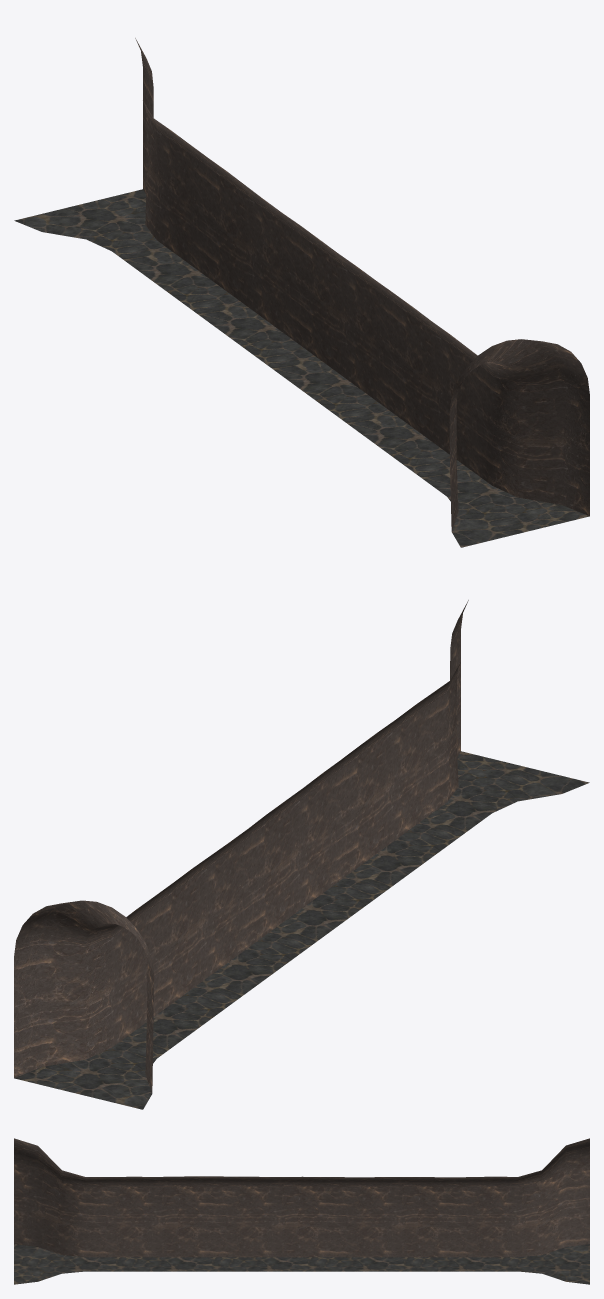
File: hall-squeeze-long.d9ea5f05.gltf
3 views of the same model, one above another, from view 1: azimuth 30°, elevation 25°; view 2: azimuth 150°, elevation 25°; view 3: azimuth 270°, elevation 25° (orthographic). The views are drawn at different scales.
Visible parts, largest first — view 1: hall-squeeze-long-mesh; view 2: hall-squeeze-long-mesh; view 3: hall-squeeze-long-mesh.
Boxes of the visible parts, x1,y1,x2,y2 form: hall-squeeze-long-mesh: (14, 38, 589, 547); hall-squeeze-long-mesh: (14, 600, 589, 1109); hall-squeeze-long-mesh: (14, 1138, 589, 1284).
Size of the model in its own units: 2 by 2.8 by 12.
2 materials, 2 textured.
